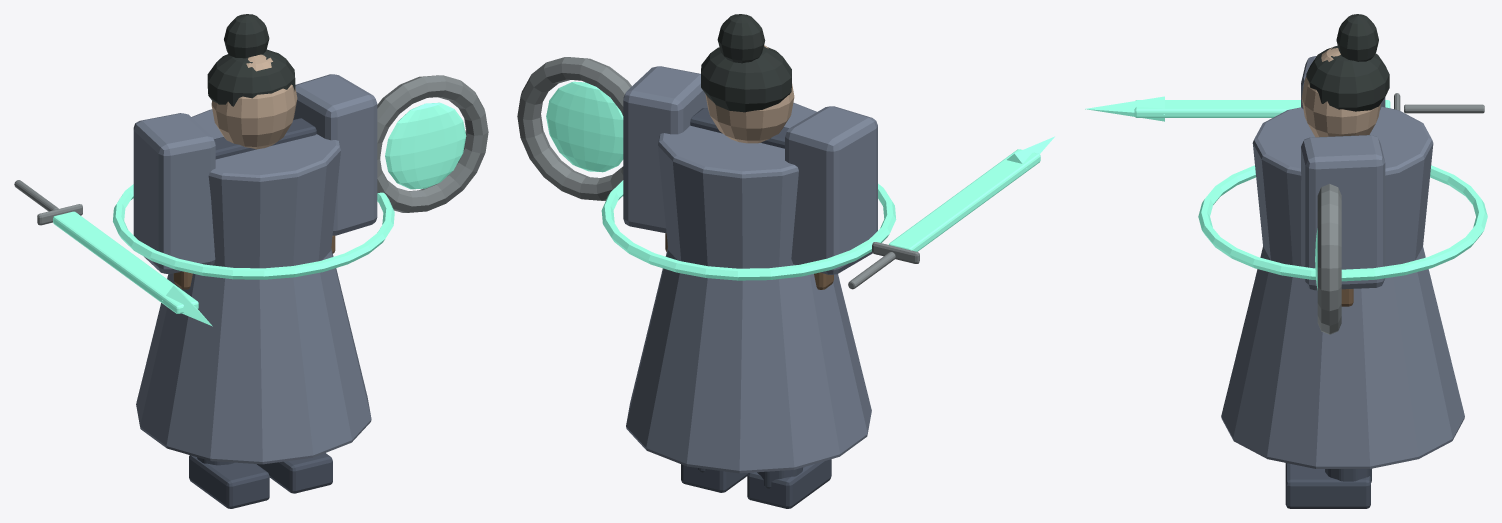
The model's file is chr_guardian_foundation_a.glb.
3 renders of one model, left to right at view 1: azimuth 30°, elevation 25°; view 2: azimuth 150°, elevation 25°; view 3: azimuth 270°, elevation 25°, orthographic. The views are drawn at different scales.
Visible parts, largest first — view 1: guardian_robe_lower, guardian_torso, guardian_sleeve_l, guardian_sleeve_r, guardian_guard_mirror, guardian_guard_mirror_core, guardian_tight_guard, guardian_head, guardian_control_sword_blade, guardian_hair_cap, guardian_leg_l_boot, guardian_leg_r_boot (+3 smaller); view 2: guardian_robe_lower, guardian_torso, guardian_sleeve_l, guardian_sleeve_r, guardian_guard_mirror, guardian_guard_mirror_core, guardian_tight_guard, guardian_hair_cap, guardian_control_sword_blade, guardian_head, guardian_leg_l_boot, guardian_hair_bun (+2 smaller); view 3: guardian_robe_lower, guardian_torso, guardian_sleeve_r, guardian_tight_guard, guardian_hair_cap, guardian_guard_mirror, guardian_leg_r_boot, guardian_control_sword_blade, guardian_head, guardian_hair_bun, guardian_control_sword_grip, guardian_control_sword_tip (+1 smaller).
Boxes of the visible parts, x1,y1,x2,y2 form: guardian_robe_lower: (136,248,371,464); guardian_torso: (191,109,340,268); guardian_sleeve_l: (133,113,215,273); guardian_sleeve_r: (293,74,377,235); guardian_guard_mirror: (377,75,488,212); guardian_guard_mirror_core: (385,102,466,189); guardian_tight_guard: (113,184,394,279); guardian_head: (211,54,297,149); guardian_control_sword_blade: (53,211,198,313); guardian_hair_cap: (207,49,295,106); guardian_leg_l_boot: (189,455,269,508); guardian_leg_r_boot: (257,453,332,493); guardian_robe_lower: (626,248,871,473); guardian_torso: (658,102,816,268); guardian_sleeve_l: (785,106,877,274); guardian_sleeve_r: (623,66,707,233); guardian_guard_mirror: (517,57,631,200); guardian_guard_mirror_core: (546,81,623,172); guardian_tight_guard: (601,180,896,280); guardian_hair_cap: (701,46,791,112); guardian_control_sword_blade: (889,149,1040,251); guardian_head: (705,45,794,143); guardian_leg_l_boot: (747,459,831,508); guardian_hair_bun: (717,14,765,63); guardian_robe_lower: (1221,246,1464,468); guardian_torso: (1252,106,1433,266); guardian_sleeve_r: (1301,135,1385,290); guardian_tight_guard: (1198,165,1487,281); guardian_hair_cap: (1306,45,1389,111); guardian_guard_mirror: (1317,184,1341,334); guardian_leg_r_boot: (1285,463,1370,508); guardian_control_sword_blade: (1134,100,1390,117); guardian_head: (1301,47,1380,137); guardian_hair_bun: (1336,14,1378,61); guardian_control_sword_grip: (1404,104,1484,113); guardian_control_sword_tip: (1085,96,1164,121).
Bounding box in the file's own units: 1.85 × 1.93 × 1.51.
